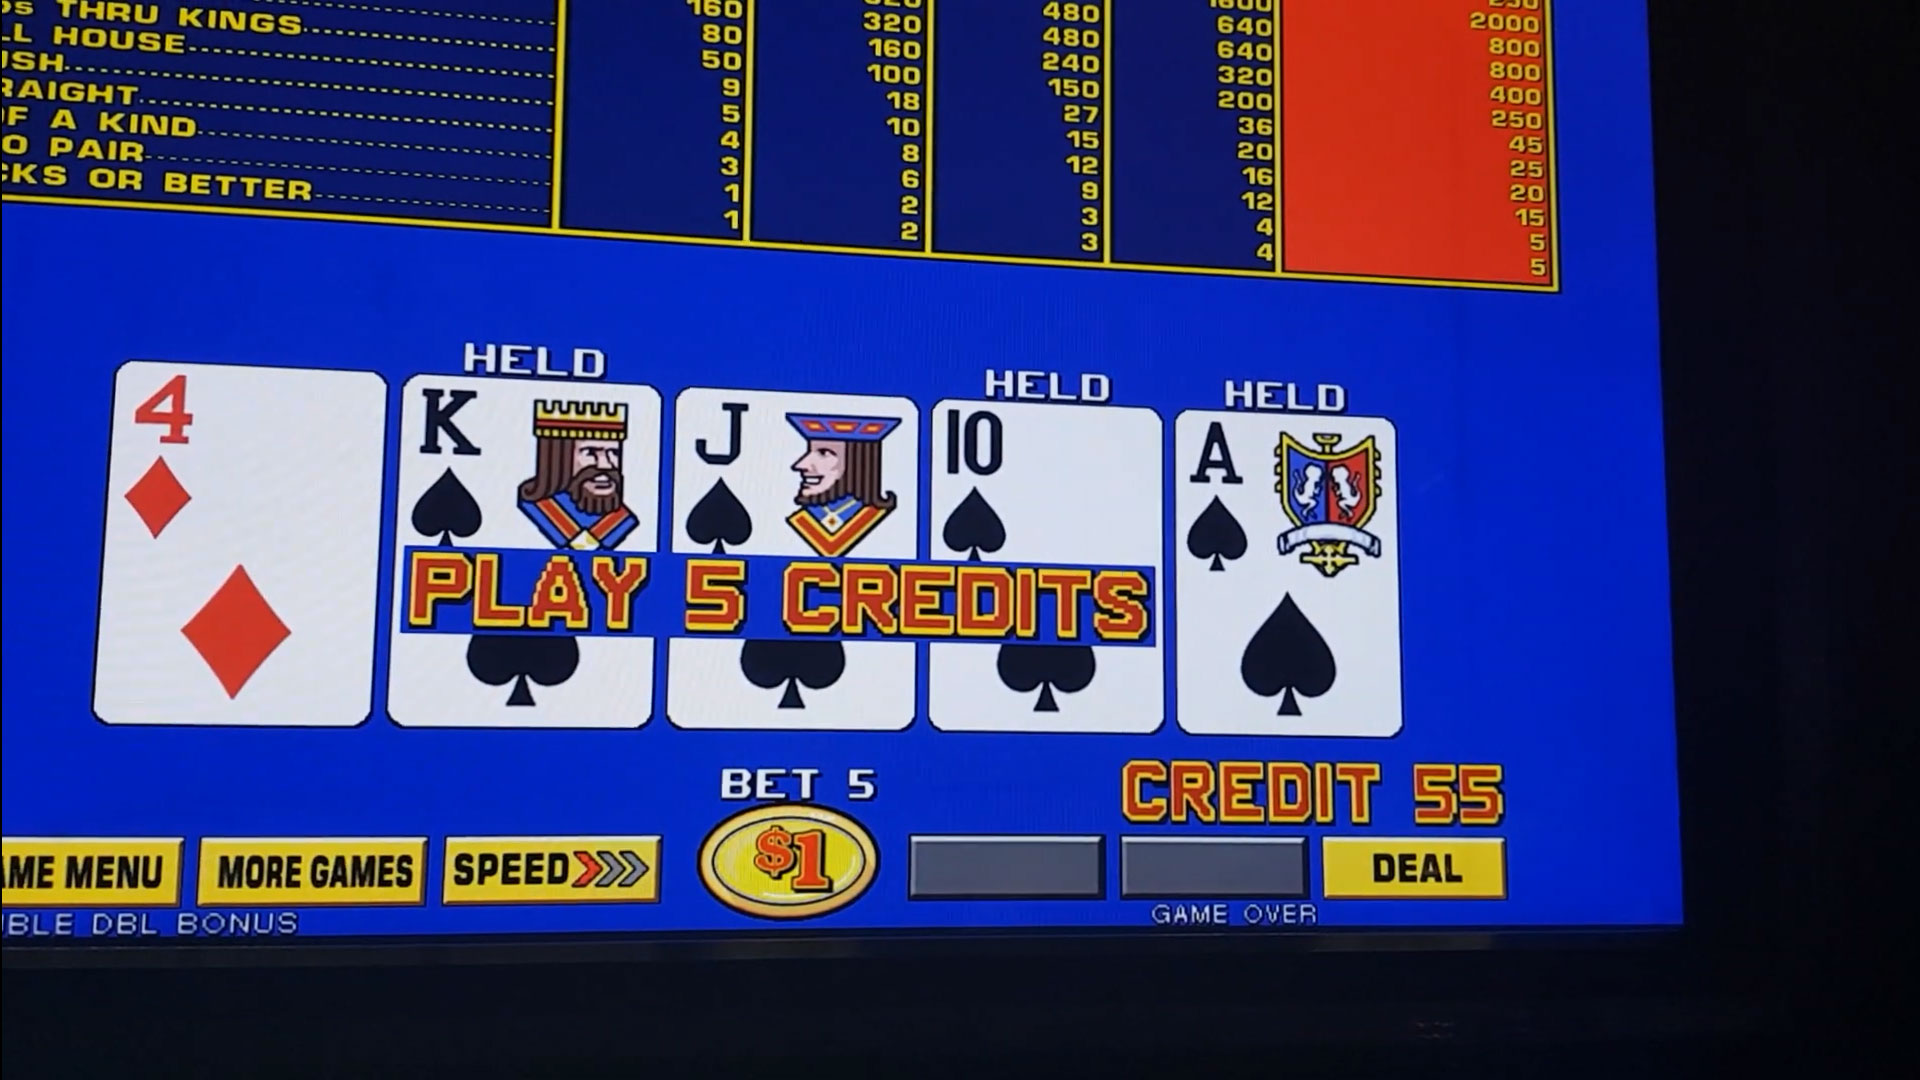D4: (125, 378, 378, 549)
SA: (1178, 417, 1391, 575)
SJ: (679, 400, 909, 553)
SK: (404, 384, 653, 539)
ST: (935, 410, 1160, 566)
